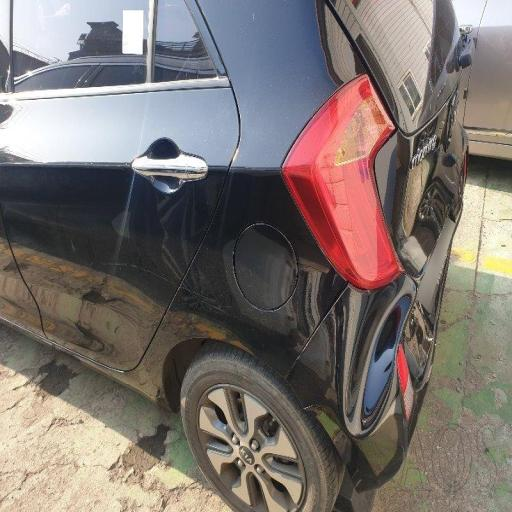broken: (283, 115, 512, 512)
scratch: (126, 155, 263, 330)
